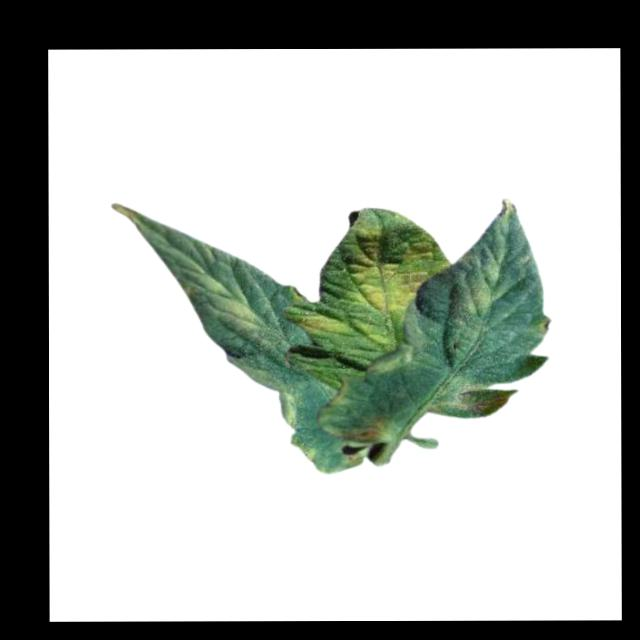Leaf_Mold: (347, 219, 446, 317), (198, 270, 261, 338), (449, 247, 508, 318), (442, 373, 510, 415), (300, 309, 349, 339), (339, 416, 391, 444)
